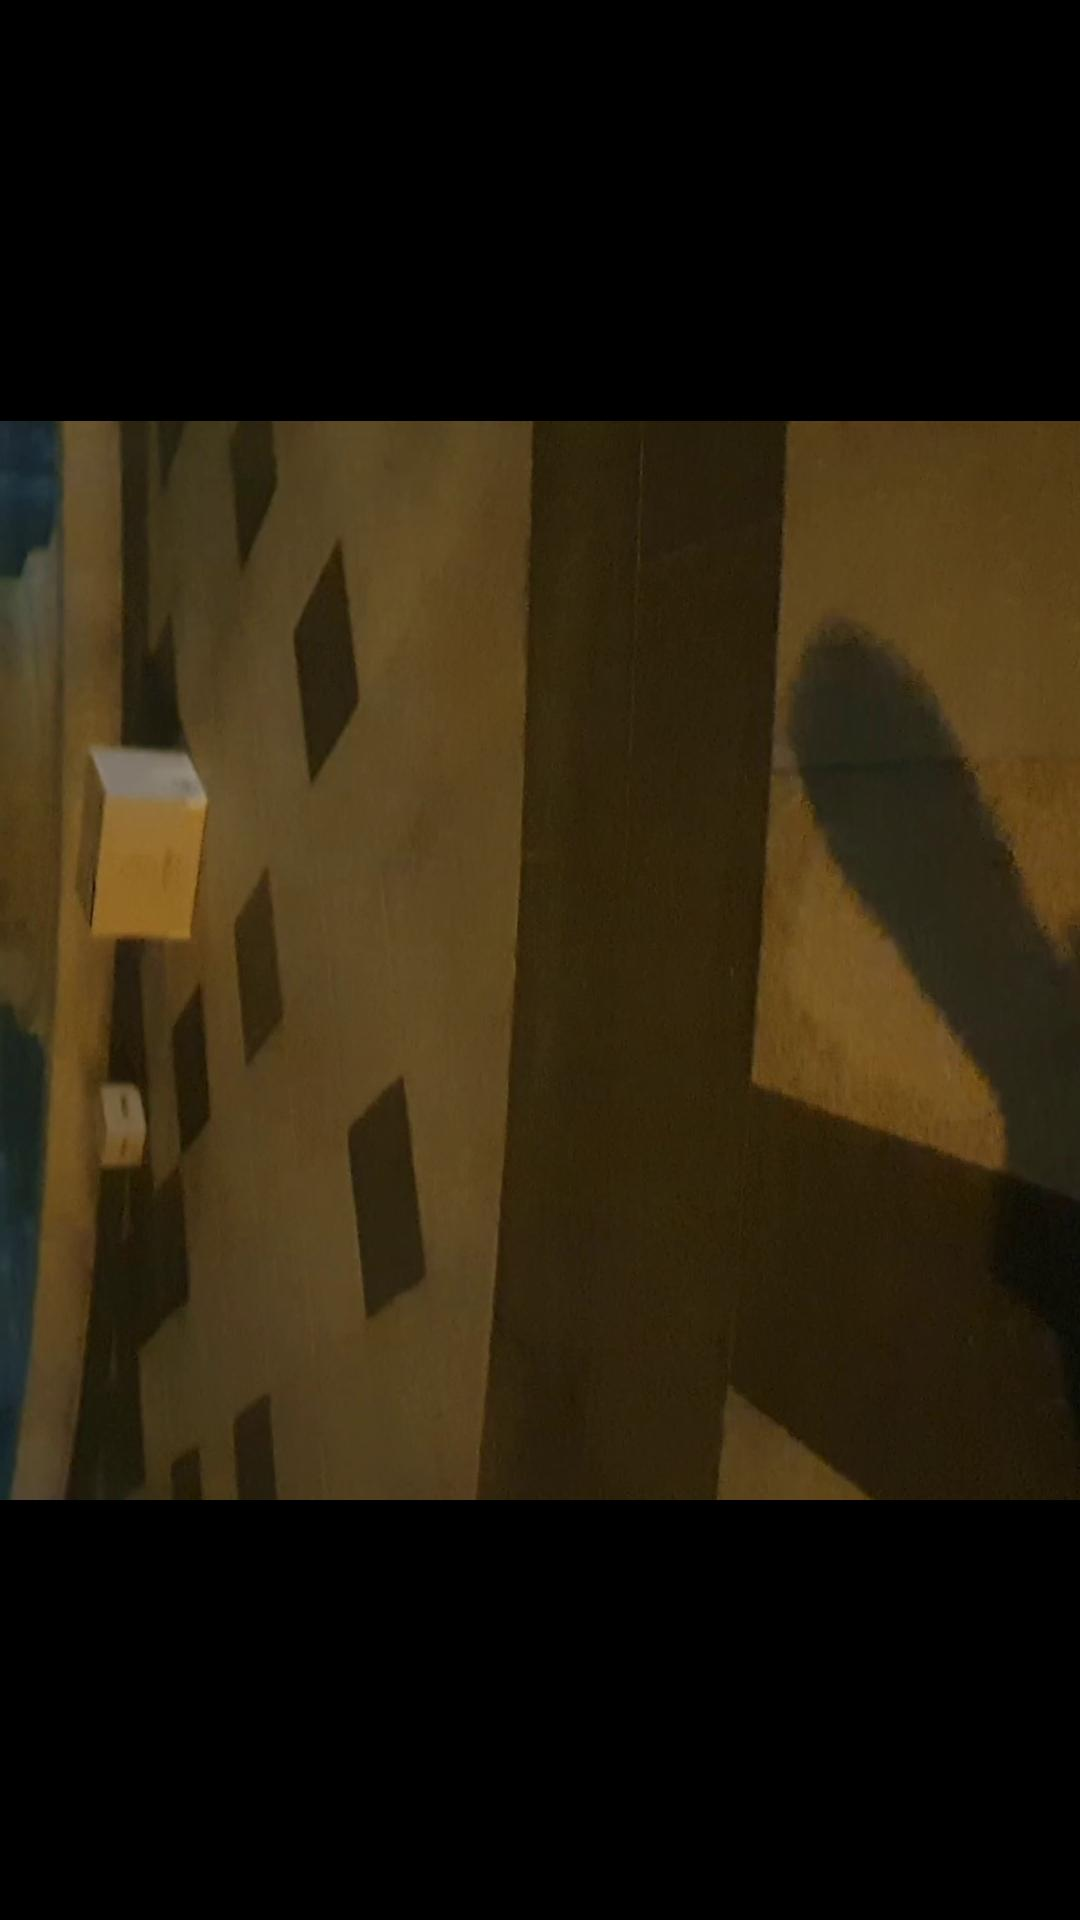Box: (73, 746, 200, 938), (84, 1069, 156, 1178)
